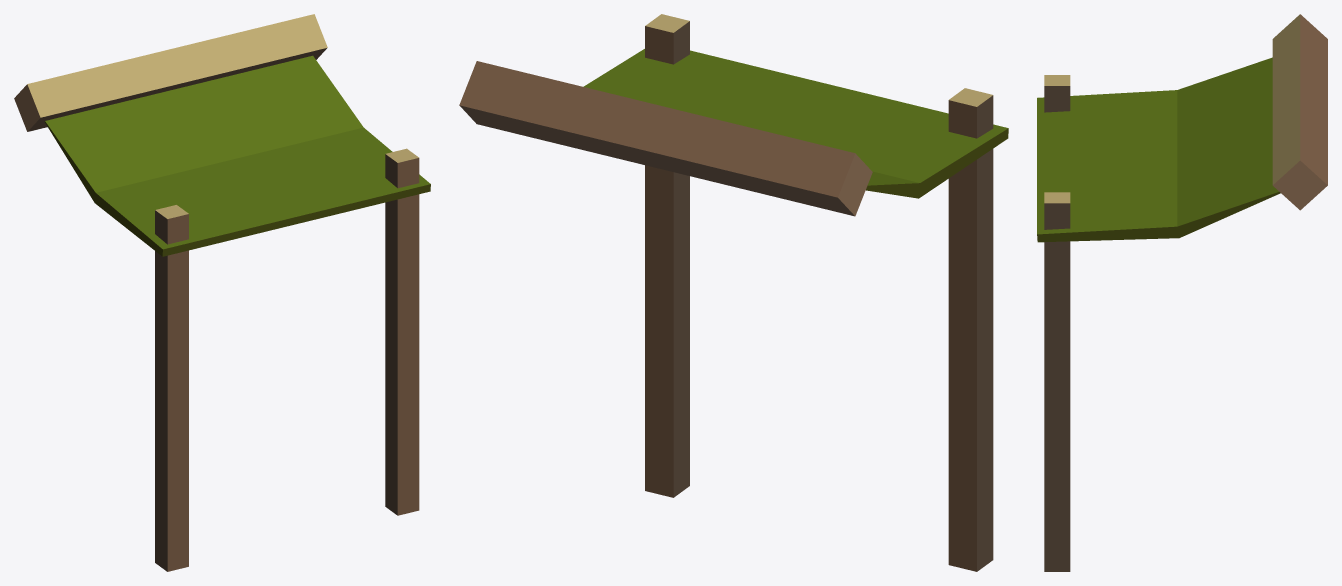
The model's file is TB_D_Bd_Canopy_Leg_B.FBX.
3 renders of one model, left to right at view 1: azimuth 30°, elevation 25°; view 2: azimuth 150°, elevation 25°; view 3: azimuth 270°, elevation 25°, orthographic. The views are drawn at different scales.
Parts seen in each view (by area): view 1: TB_D_Bd_Canopy_Leg_B; view 2: TB_D_Bd_Canopy_Leg_B; view 3: TB_D_Bd_Canopy_Leg_B.
Part boxes in pixels (x1,y1,x2,y2): TB_D_Bd_Canopy_Leg_B: (14,14,430,571); TB_D_Bd_Canopy_Leg_B: (459,14,1008,571); TB_D_Bd_Canopy_Leg_B: (1037,14,1327,571).
Bounding box in the file's own units: 1.88 × 2.52 × 1.58.
